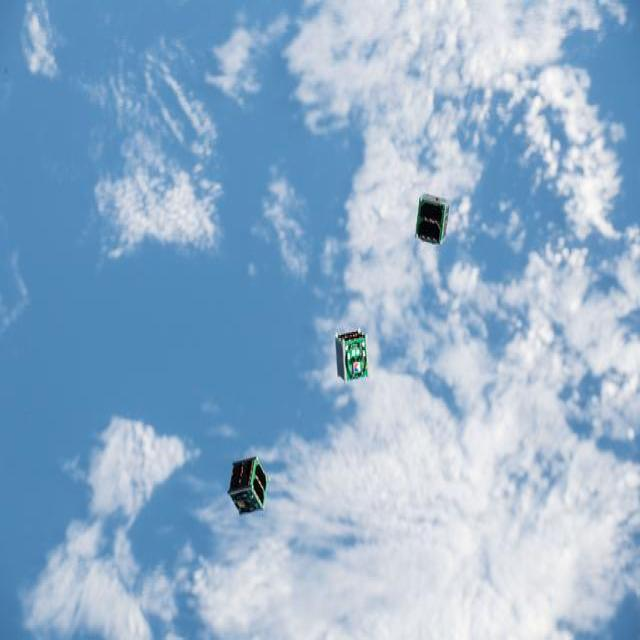satellite: (228, 456, 268, 514), (335, 331, 369, 382), (415, 195, 449, 244)
